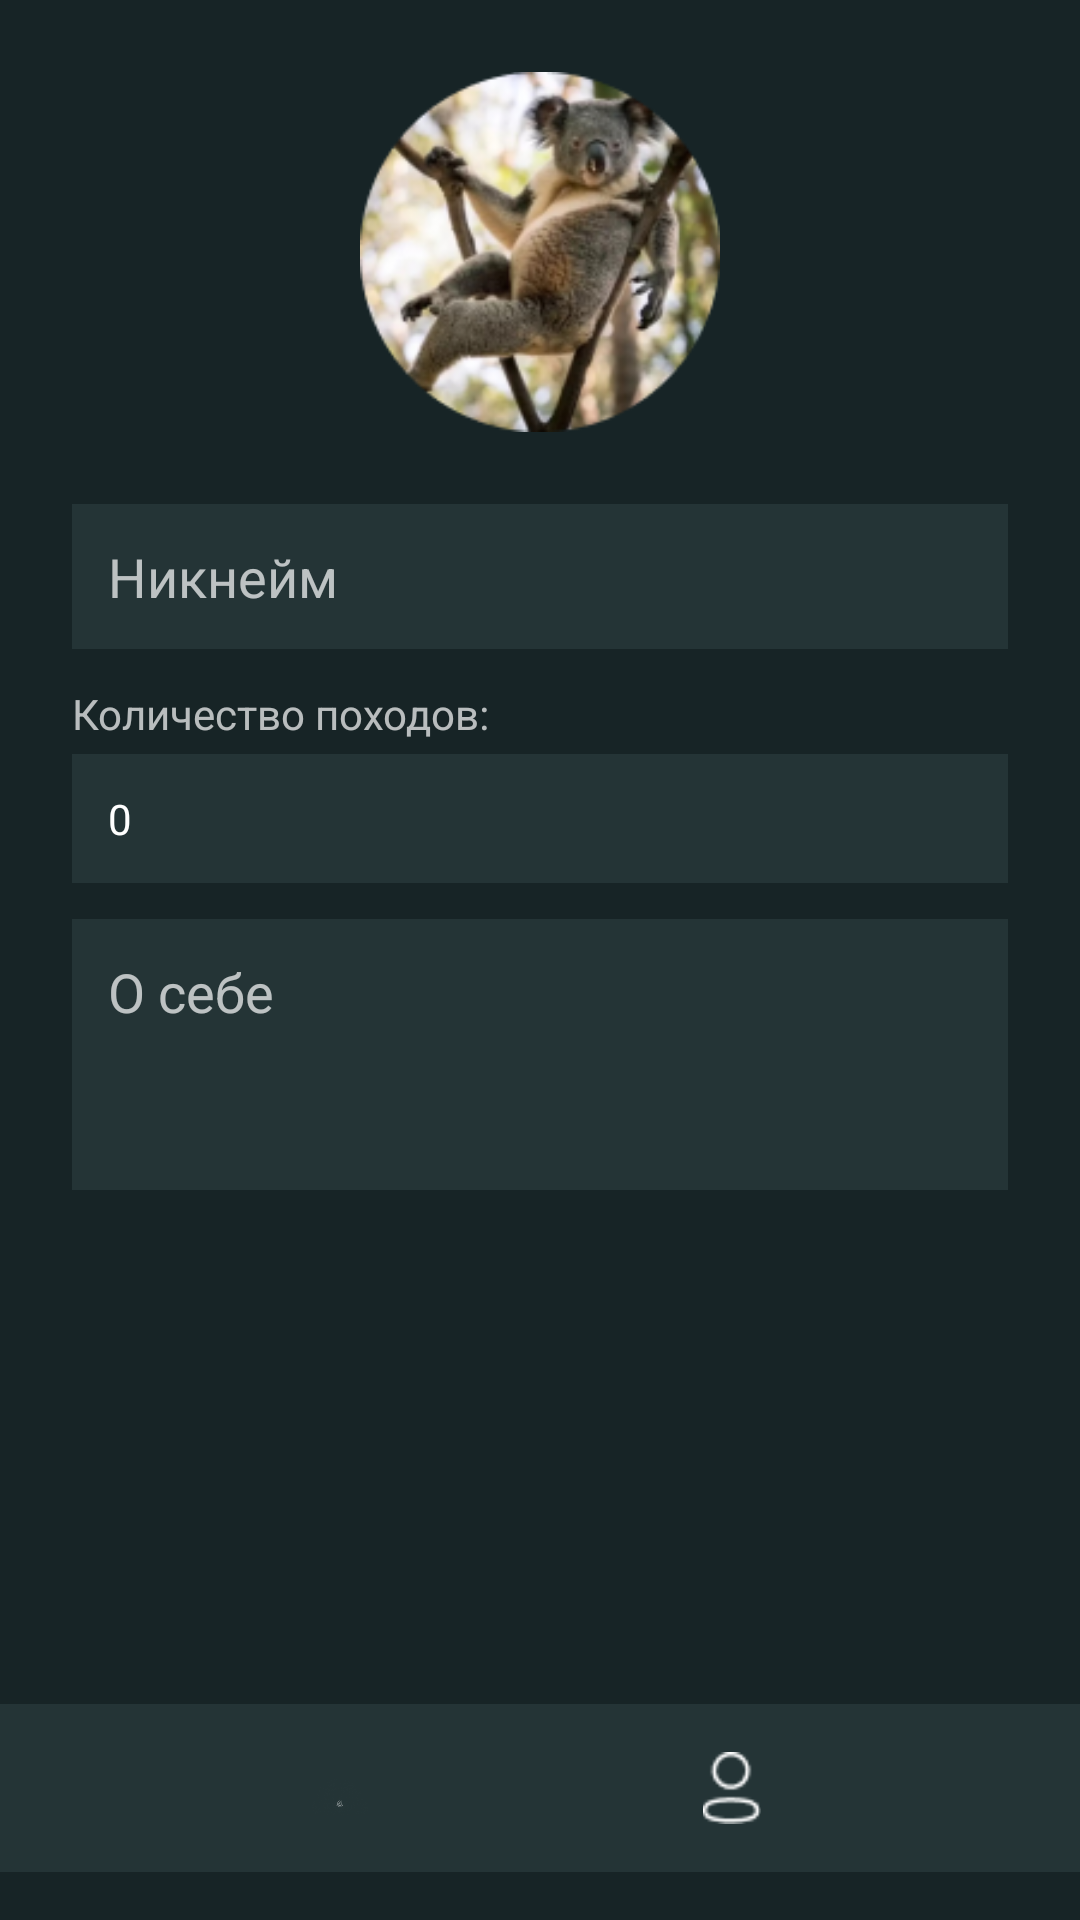

Screen size 1080 × 1920. Icon name, then its center in pixels as point (x, y):
profile: point (732, 1788)
